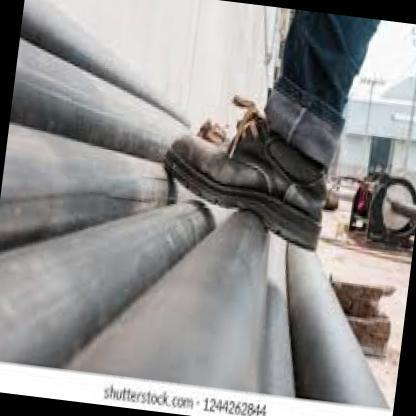safety-shoe: (146, 90, 345, 282)
